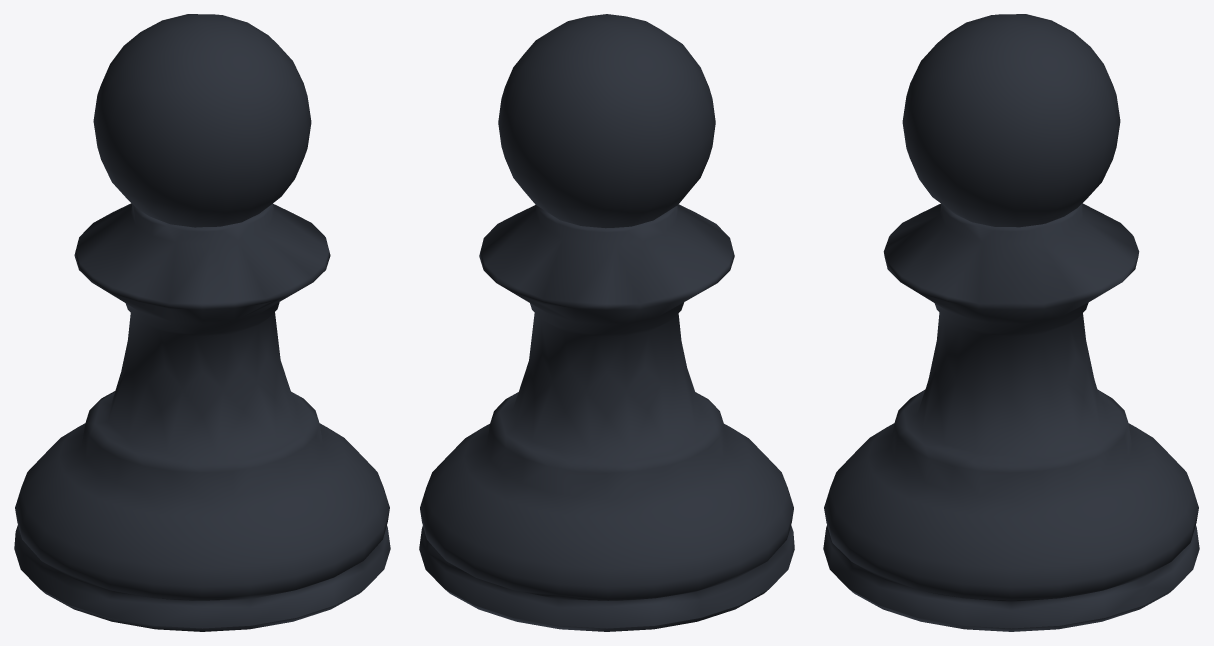
The model's file is xadrez_peao_preto_pacote.glb.
3 renders of one model, left to right at view 1: azimuth 30°, elevation 25°; view 2: azimuth 150°, elevation 25°; view 3: azimuth 270°, elevation 25°, orthographic.
Parts seen in each view (by area): view 1: xadrez_peao_preto_pacote; view 2: xadrez_peao_preto_pacote; view 3: xadrez_peao_preto_pacote.
Part boxes in pixels (bbox=[...]): xadrez_peao_preto_pacote: bbox=[14, 14, 390, 631]; xadrez_peao_preto_pacote: bbox=[419, 14, 794, 631]; xadrez_peao_preto_pacote: bbox=[823, 14, 1199, 631].
Size of the model in its own units: 0.0287 by 0.0454 by 0.0288.
Materials: 1 (1 with a texture image).
